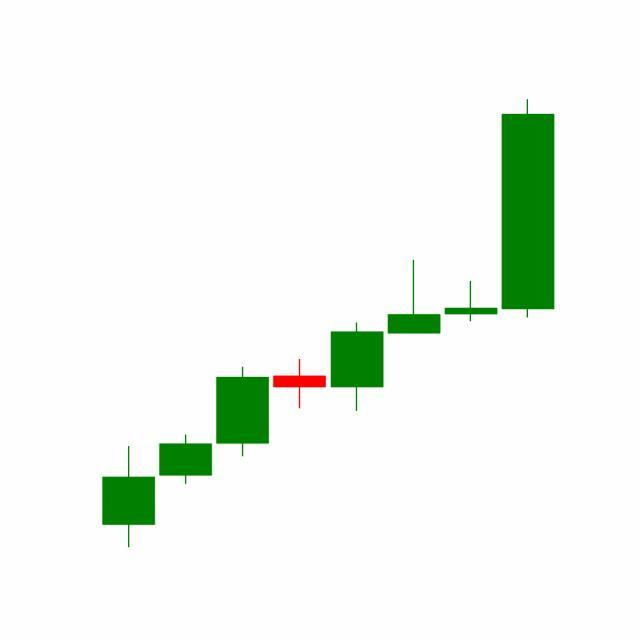Advance Block: (328, 259, 500, 414)
